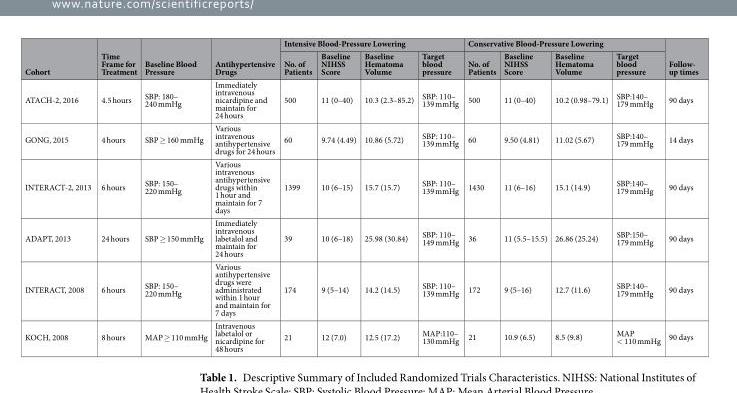table: (24, 36, 697, 353)
table column: (24, 36, 95, 353), (140, 36, 210, 353), (210, 36, 278, 353), (550, 36, 611, 353), (359, 36, 417, 353), (611, 36, 663, 353), (499, 36, 550, 353), (95, 36, 140, 353), (417, 36, 462, 353), (315, 36, 359, 353), (278, 36, 315, 353), (462, 36, 499, 353), (663, 36, 697, 353)
table column header: (24, 36, 697, 77)
table row: (24, 157, 697, 216), (24, 259, 697, 318), (24, 77, 697, 121), (24, 216, 697, 259), (24, 121, 697, 157), (24, 318, 697, 353), (24, 49, 697, 77), (24, 36, 697, 49)
table spanning cell: (24, 36, 95, 77), (140, 36, 210, 77), (210, 36, 278, 77), (462, 36, 663, 49), (278, 36, 462, 49), (95, 36, 140, 77), (663, 36, 697, 77)
